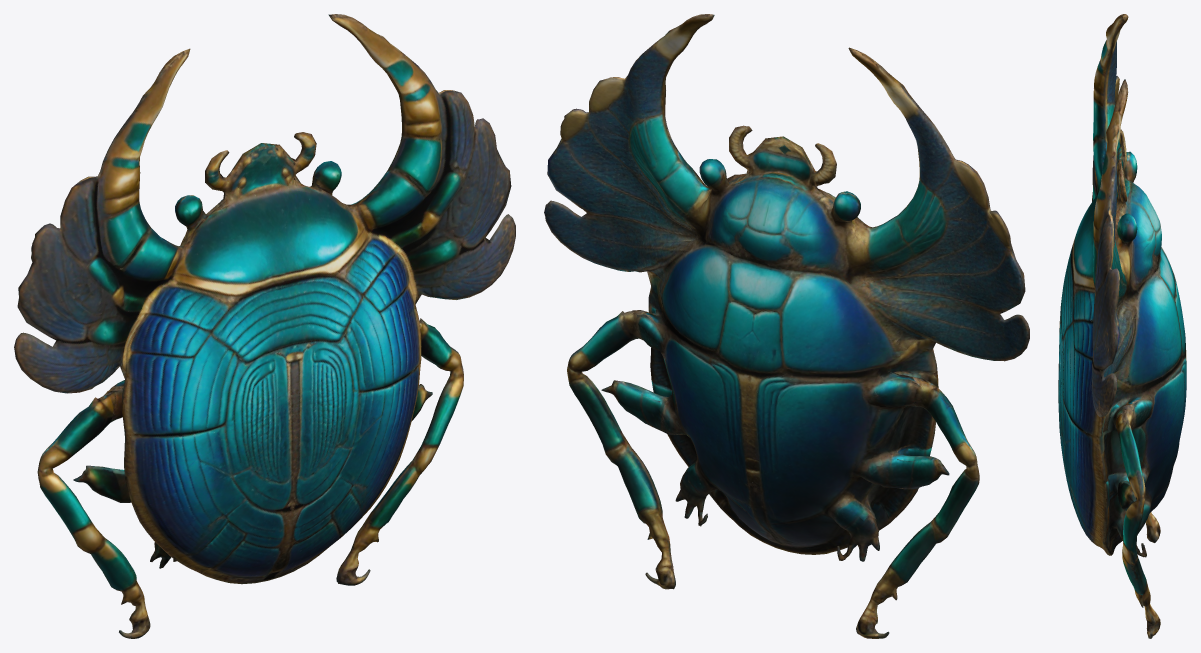
The model's file is Meshy_AI_Egyptian_Scarab_0310040509_texture.glb.
The picture shows the model from 3 angles, left to right: view 1: azimuth 30°, elevation 25°; view 2: azimuth 150°, elevation 25°; view 3: azimuth 270°, elevation 25°; orthographic projection. The views are drawn at different scales.
Bounding box in the file's own units: 1.77 × 1.99 × 0.4279.
Materials: 1 (1 with a texture image).
